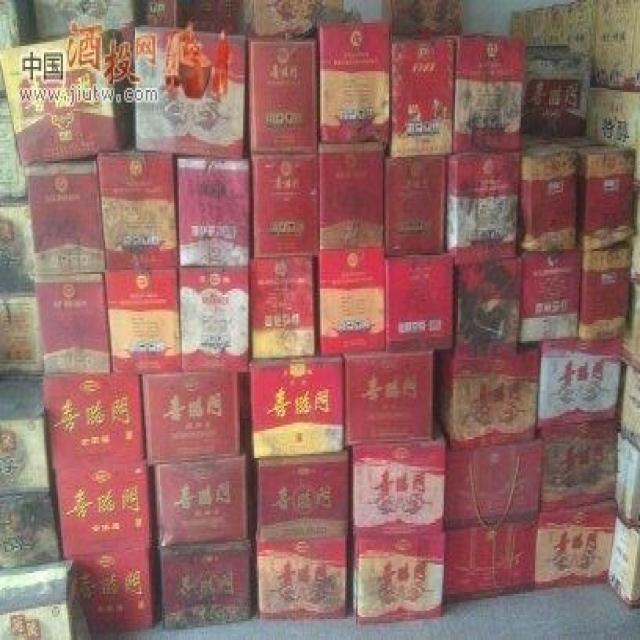box: (132, 15, 246, 159), (246, 341, 345, 460), (96, 132, 179, 268), (438, 345, 541, 450), (44, 368, 144, 471), (348, 425, 447, 527), (141, 368, 245, 464), (53, 458, 152, 558), (318, 19, 391, 153), (351, 523, 445, 627), (25, 157, 107, 272), (251, 450, 350, 542), (453, 31, 527, 153), (445, 435, 540, 529), (152, 454, 249, 546), (157, 542, 256, 630), (442, 512, 538, 602), (445, 151, 521, 264), (176, 155, 253, 266), (245, 36, 318, 153), (344, 349, 433, 443), (536, 333, 621, 431), (102, 266, 182, 370), (389, 33, 456, 157), (253, 535, 350, 619), (535, 498, 620, 590), (35, 272, 113, 372), (176, 266, 248, 374), (312, 249, 386, 353), (569, 132, 634, 249), (249, 148, 320, 255), (74, 548, 160, 634), (536, 420, 618, 510), (0, 561, 91, 640), (453, 253, 522, 356), (318, 142, 384, 247), (519, 136, 580, 249), (248, 255, 314, 358), (386, 251, 453, 351), (384, 153, 447, 253), (522, 48, 595, 134), (0, 374, 50, 494), (519, 253, 580, 345), (587, 90, 640, 195), (577, 243, 631, 341), (0, 489, 63, 567), (591, 2, 640, 92), (33, 0, 141, 40), (510, 2, 593, 52), (0, 289, 44, 379), (243, 2, 345, 40), (0, 56, 27, 197), (2, 199, 38, 289), (607, 517, 640, 609), (381, 2, 464, 33), (615, 433, 640, 525), (187, 2, 243, 36), (0, 2, 36, 50), (621, 368, 640, 448), (141, 2, 185, 27), (631, 284, 640, 351), (631, 241, 640, 280)
